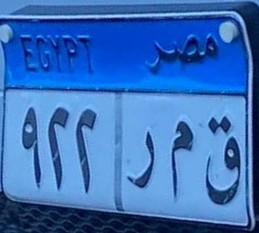2: (71, 95, 105, 201), (47, 96, 71, 190)
9: (16, 98, 43, 188)
ر: (129, 111, 161, 189)
ق: (194, 109, 241, 216)
م: (157, 107, 203, 204)
